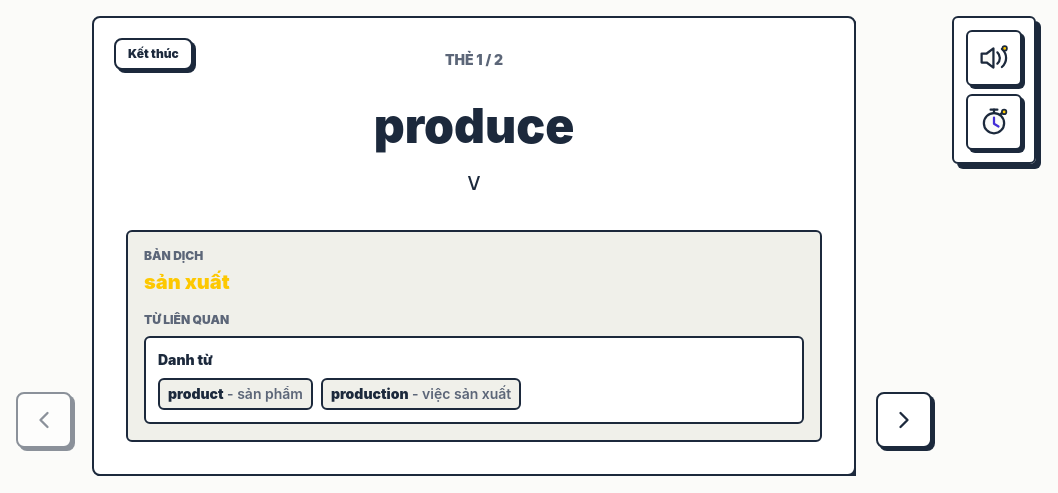
Test: FlashcardStudyPage › does not ask for a second rating after revisiting a rated card
Click the button named "Thẻ tiếp theo": (904, 420) top-left (876, 392), bottom-right (932, 448)
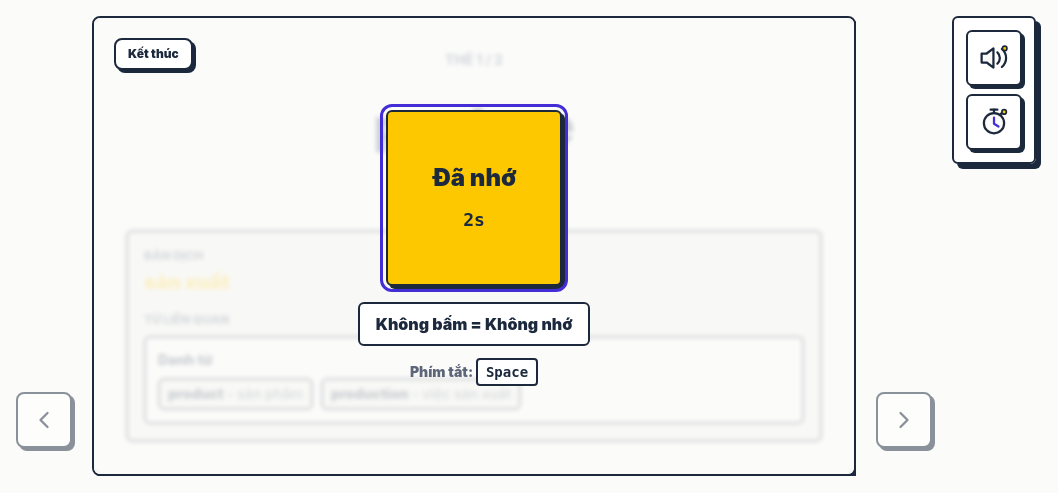
Click the button "Đã nhớ 2s": (474, 198) top-left (386, 110), bottom-right (562, 286)
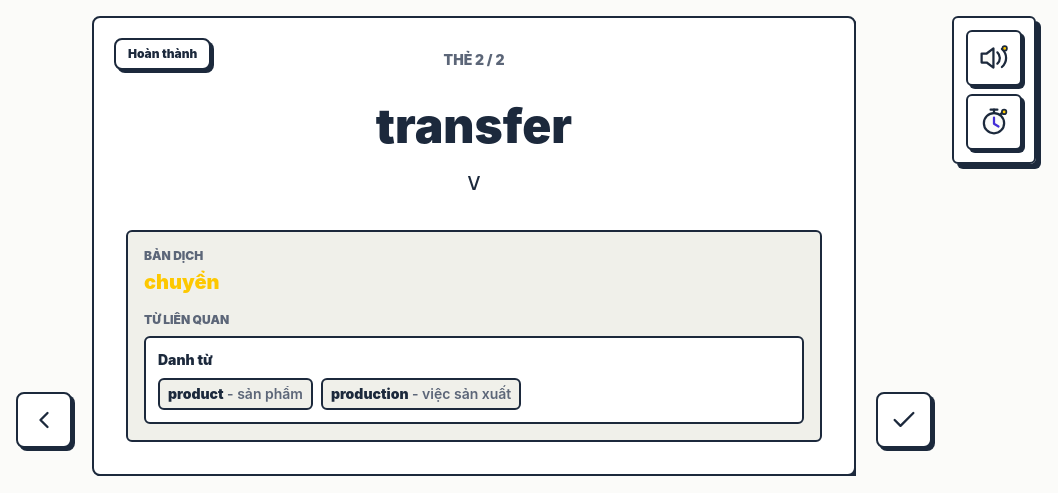
Click the button named "Thẻ trước": (44, 420) top-left (16, 392), bottom-right (72, 448)
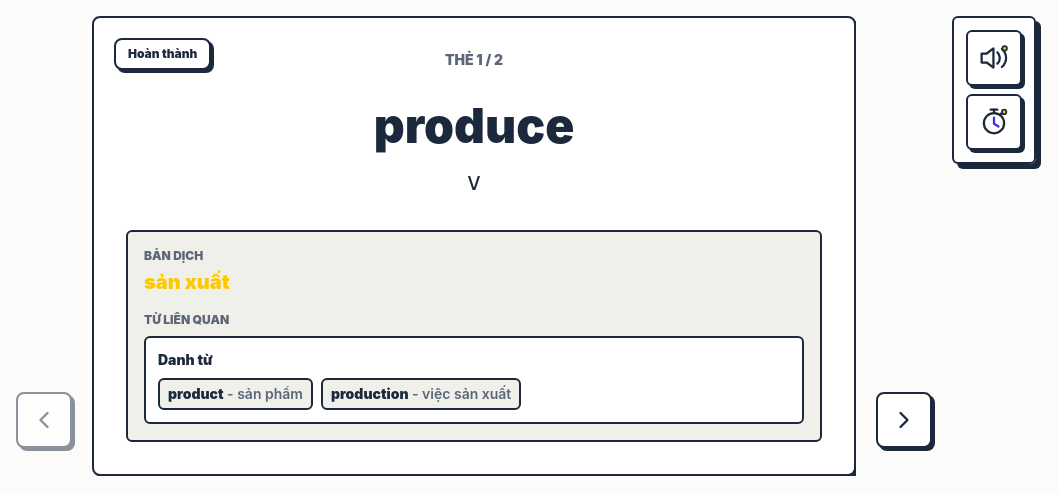
Click the button named "Thẻ tiếp theo": (904, 420) top-left (876, 392), bottom-right (932, 448)
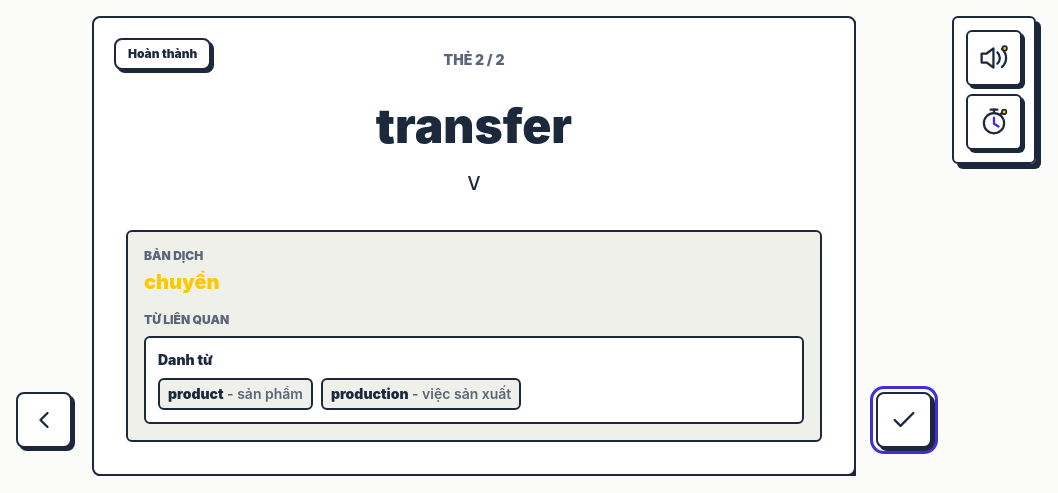
expect the button "Đã nhớ" is not shown: met
expect the text "transfer" is shown: met, box top-left (376, 96), bottom-right (572, 155)
